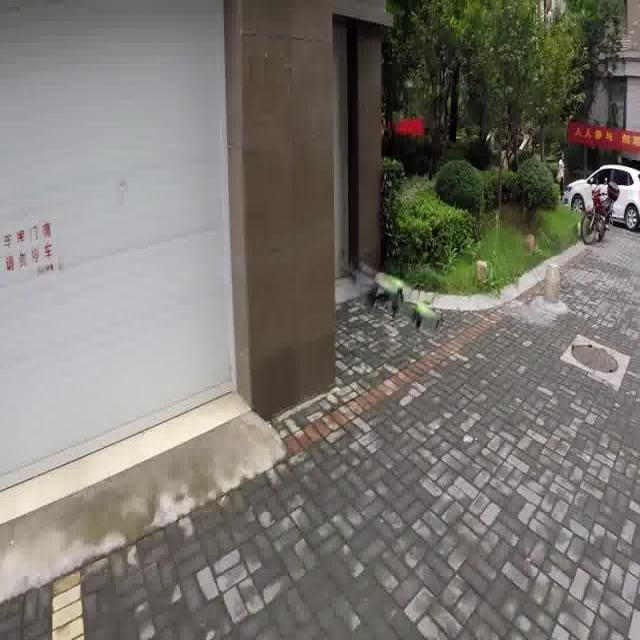drones: (364, 264, 448, 343)
